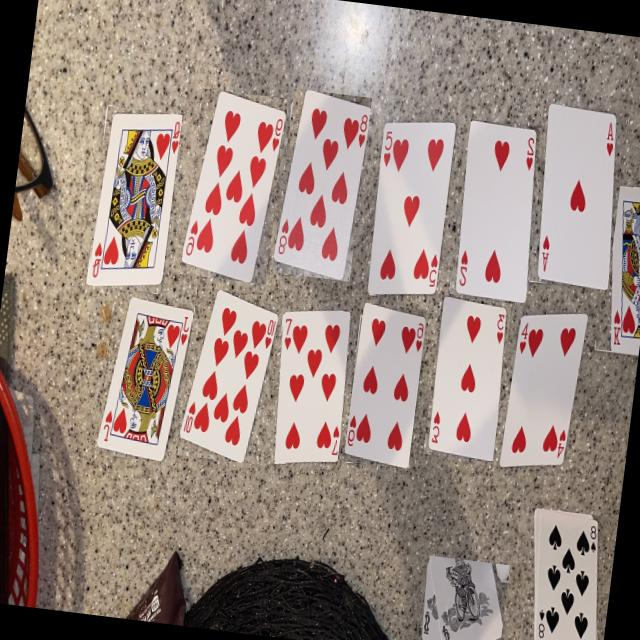10 of hearts: (178, 289, 276, 462)
2 of hearts: (455, 119, 535, 302)
3 of hearts: (426, 295, 503, 461)
4 of hearts: (499, 313, 586, 467)
5 of hearts: (366, 122, 454, 295)
6 of hearts: (343, 303, 423, 468)
7 of hearts: (272, 310, 349, 463)
8 of hearts: (272, 90, 368, 279)
8 of spades: (532, 508, 596, 640), (428, 555, 500, 640)
9 of hearts: (180, 91, 284, 282)
Ace of hearts: (536, 105, 615, 289)
Jack of hearts: (95, 297, 191, 461)
Joker: (427, 555, 500, 640), (419, 564, 439, 640)
King of hearts: (610, 186, 640, 354)
Queen of hearts: (86, 113, 180, 286)
